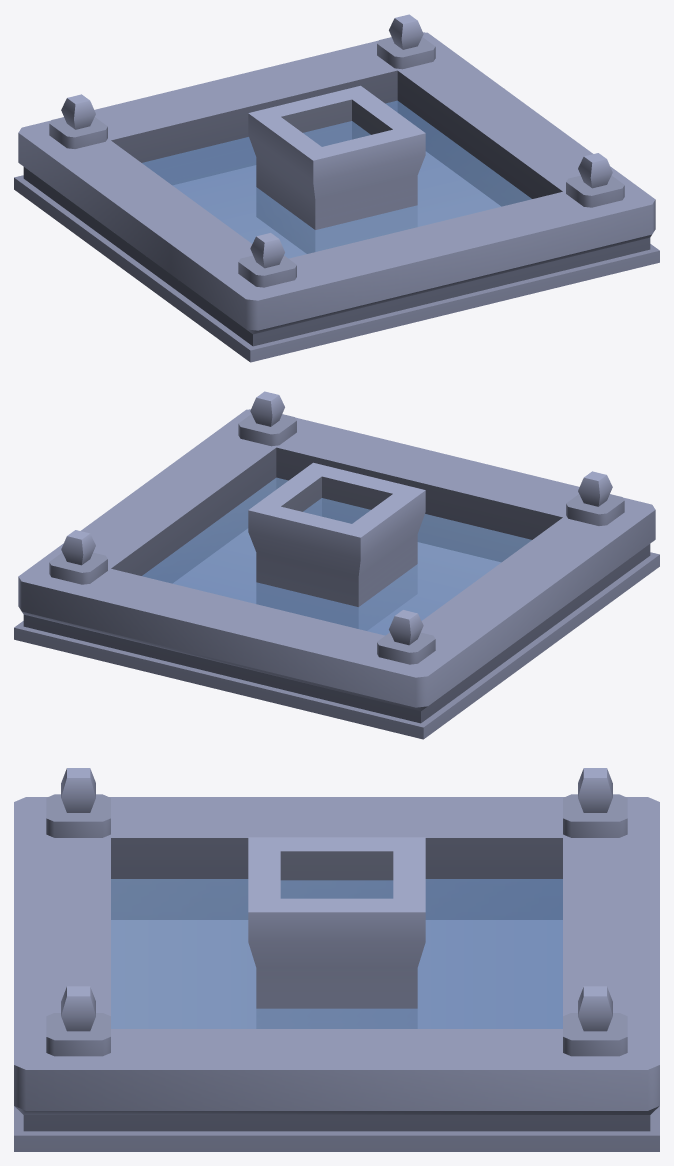
File: fountain-square-detail.glb
3 renders of one model, top to bottom at view 1: azimuth 30°, elevation 25°; view 2: azimuth 150°, elevation 25°; view 3: azimuth 270°, elevation 25°, orthographic. The views are drawn at different scales.
Parts seen in each view (by area): view 1: fountain-square-detail, (%ignore); view 2: fountain-square-detail, (%ignore); view 3: fountain-square-detail, (%ignore).
Part boxes in pixels (box(x1,y1,x2,y2)): fountain-square-detail: box(14, 14, 659, 362); (%ignore): box(142, 100, 531, 258); fountain-square-detail: box(14, 391, 659, 739); (%ignore): box(142, 477, 531, 635); fountain-square-detail: box(14, 768, 659, 1151); (%ignore): box(111, 879, 562, 1028).
Bounding box in the file's own units: 2 × 0.48 × 2.
2 materials, 2 textured.
